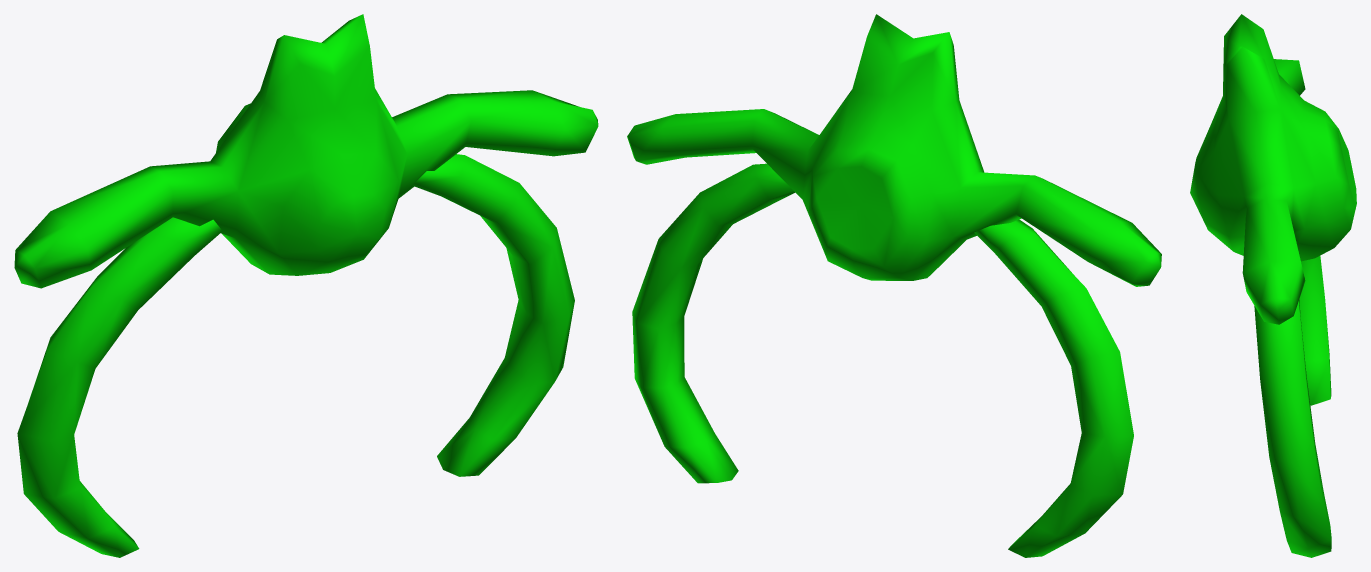
File: espina_1.fbx
3 views of the same model, side by side, from view 1: azimuth 30°, elevation 25°; view 2: azimuth 150°, elevation 25°; view 3: azimuth 270°, elevation 25° (orthographic). The views are drawn at different scales.
Parts seen in each view (by area): view 1: polySurface79; view 2: polySurface79; view 3: polySurface79.
Part boxes in pixels (left/top/right/bottom): polySurface79: left=14, top=14, right=598, bottom=557; polySurface79: left=627, top=14, right=1161, bottom=557; polySurface79: left=1190, top=14, right=1356, bottom=557.
Bounding box in the file's own units: 8.35 × 7.07 × 2.39.
